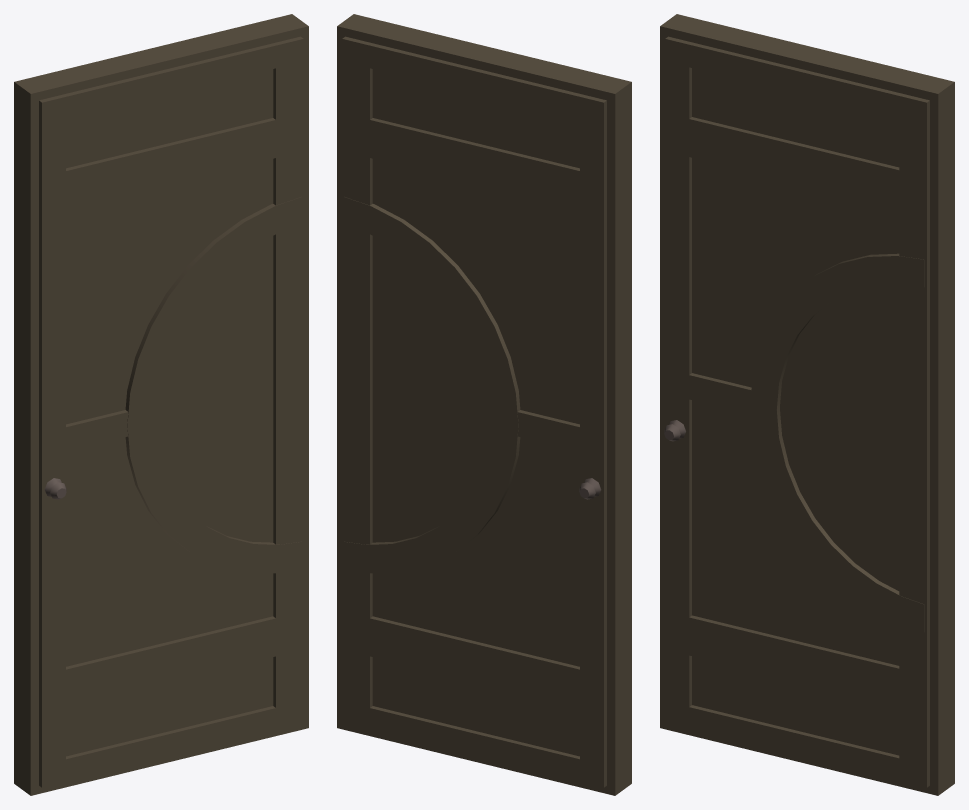
File: Door_3.gltf
3 renders of one model, left to right at view 1: azimuth 30°, elevation 25°; view 2: azimuth 150°, elevation 25°; view 3: azimuth 330°, elevation 25°, orthographic.
Visible parts, largest first — view 1: Door_3; view 2: Door_3; view 3: Door_3.
Part boxes in pixels (x1,y1,x2,y2): Door_3: (14, 14, 308, 795); Door_3: (337, 14, 631, 795); Door_3: (660, 14, 954, 795).
Bounding box in the file's own units: 1.74 × 4.19 × 0.4159.
